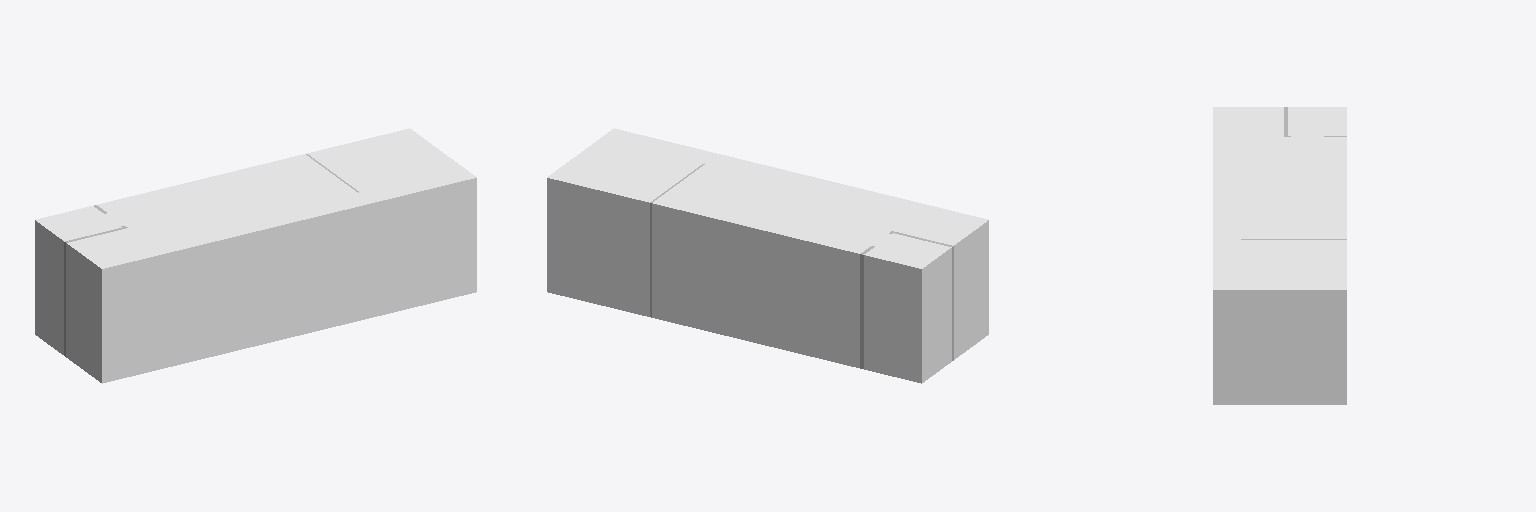
The model's file is trailer.obj.
3 views of the same model, side by side, from view 1: azimuth 30°, elevation 25°; view 2: azimuth 150°, elevation 25°; view 3: azimuth 270°, elevation 25° (orthographic).
Visible parts, largest first — view 1: Trailer_Cube.001; view 2: Trailer_Cube.001; view 3: Trailer_Cube.001.
Boxes of the visible parts, x1=… form: Trailer_Cube.001: x1=35, y1=128, x2=476, y2=383; Trailer_Cube.001: x1=547, y1=128, x2=988, y2=383; Trailer_Cube.001: x1=1213, y1=107, x2=1346, y2=404.
Bounding box in the file's own units: 8.99 × 2.62 × 2.79.